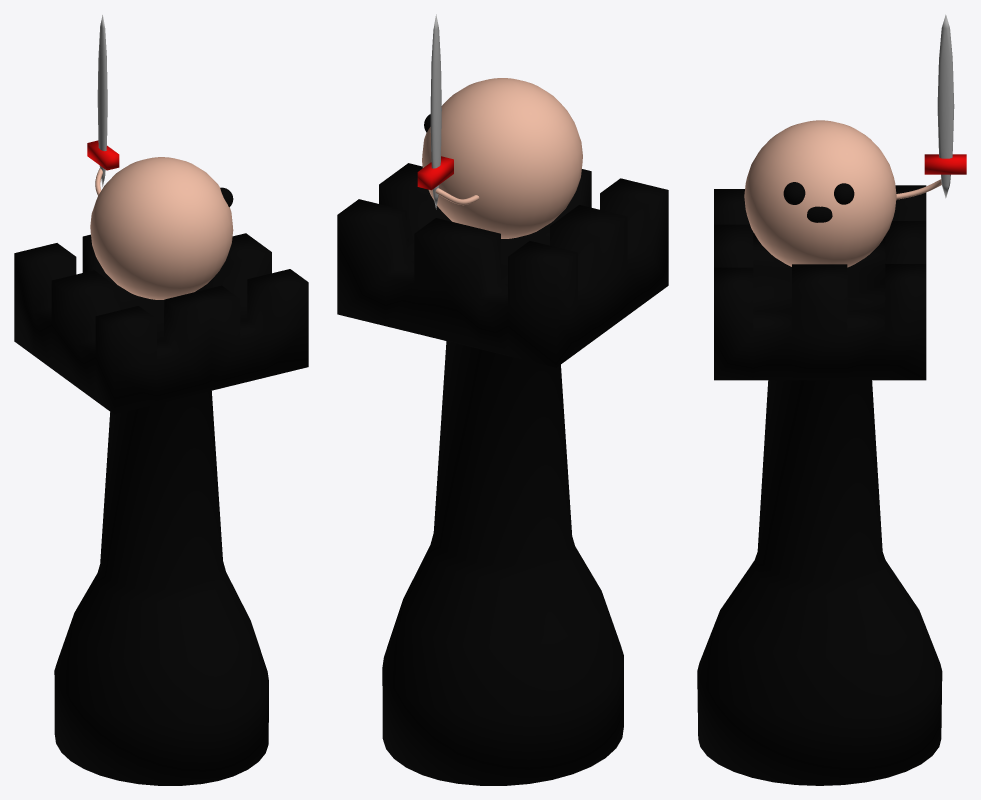
The model's file is BlackRook.fbx.
3 renders of one model, left to right at view 1: azimuth 30°, elevation 25°; view 2: azimuth 150°, elevation 25°; view 3: azimuth 270°, elevation 25°, orthographic. The views are drawn at different scales.
Parts seen in each view (by area): view 1: WhiteRook; view 2: WhiteRook; view 3: WhiteRook.
Boxes of the visible parts, box(x1,y1,x2,y2) form: WhiteRook: box(14, 15, 308, 785); WhiteRook: box(337, 14, 668, 785); WhiteRook: box(697, 14, 966, 785).
Size of the model in its own units: 86.18 by 289 by 97.24.
